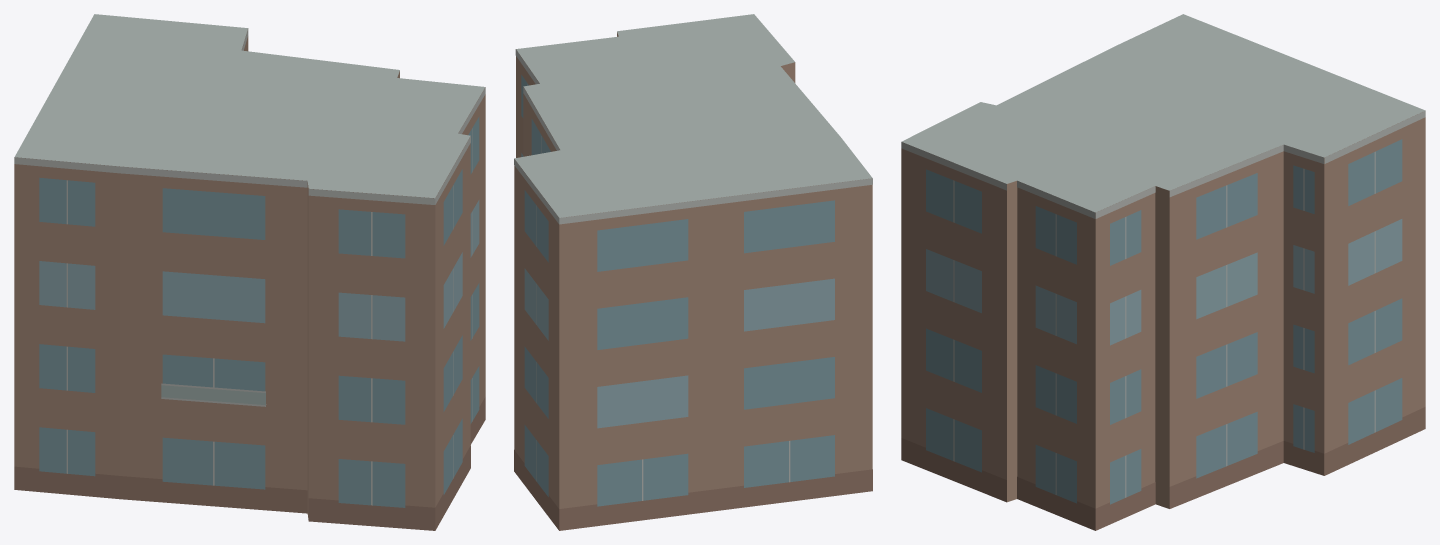
Rendered from survey-upis-32508785.glb.
The picture shows the model from 3 angles, left to right: view 1: azimuth 30°, elevation 25°; view 2: azimuth 150°, elevation 25°; view 3: azimuth 270°, elevation 25°; orthographic projection. The views are drawn at different scales.
Visible parts, largest first — view 1: survey-upis-32508785.tmp; view 2: survey-upis-32508785.tmp; view 3: survey-upis-32508785.tmp.
Boxes of the visible parts, box(x1,y1,x2,y2) form: survey-upis-32508785.tmp: box(14, 14, 485, 530); survey-upis-32508785.tmp: box(514, 14, 872, 530); survey-upis-32508785.tmp: box(901, 14, 1425, 530).
Size of the model in its own units: 15.66 by 11.7 by 17.47.
